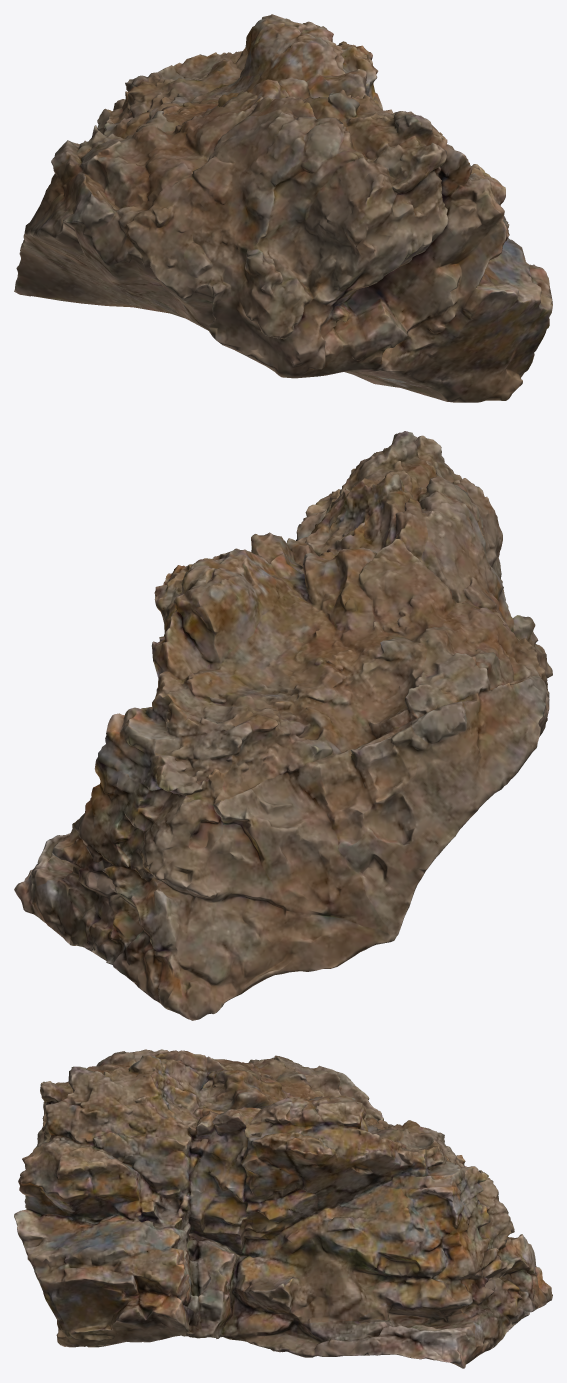
The model's file is boulder_01.glb.
The picture shows the model from 3 angles, top to bottom: view 1: azimuth 30°, elevation 25°; view 2: azimuth 150°, elevation 25°; view 3: azimuth 270°, elevation 25°; orthographic projection. The views are drawn at different scales.
Parts seen in each view (by area): view 1: boulder_01; view 2: boulder_01; view 3: boulder_01.
Boxes of the visible parts, x1,y1,x2,y2 form: boulder_01: (14, 14, 552, 402); boulder_01: (14, 431, 552, 1020); boulder_01: (14, 1049, 552, 1368).
Bounding box in the file's own units: 1.27 × 1 × 1.83.
1 material, 1 textured.
